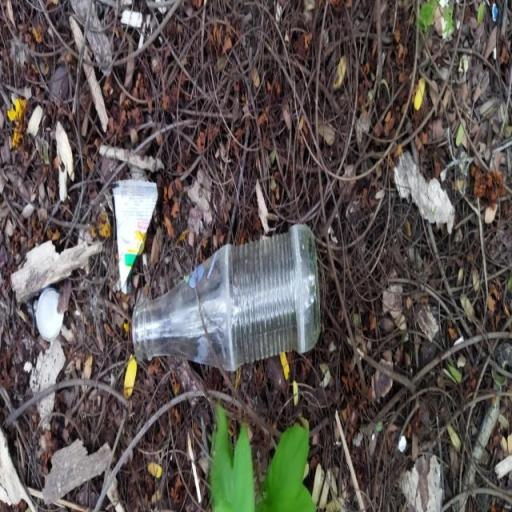plastic: (131, 222, 321, 372)
